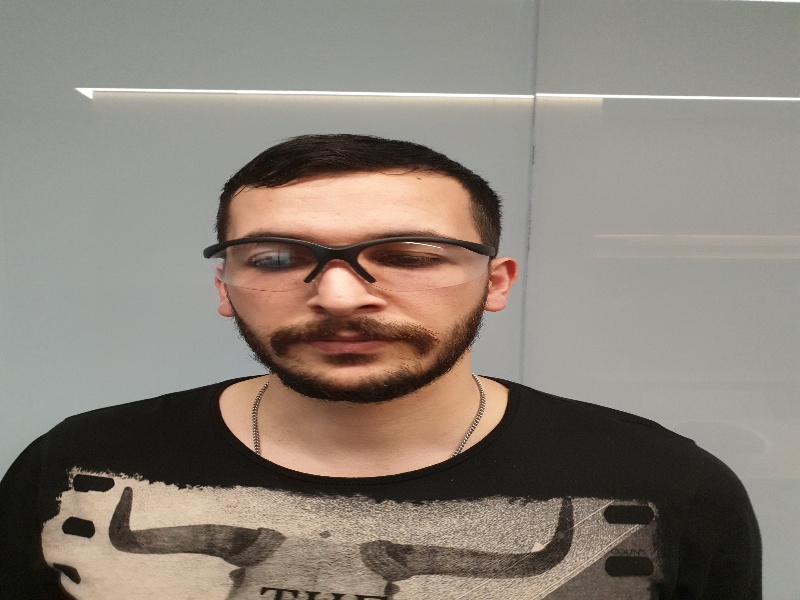Gozluk: (204, 235, 493, 292)
